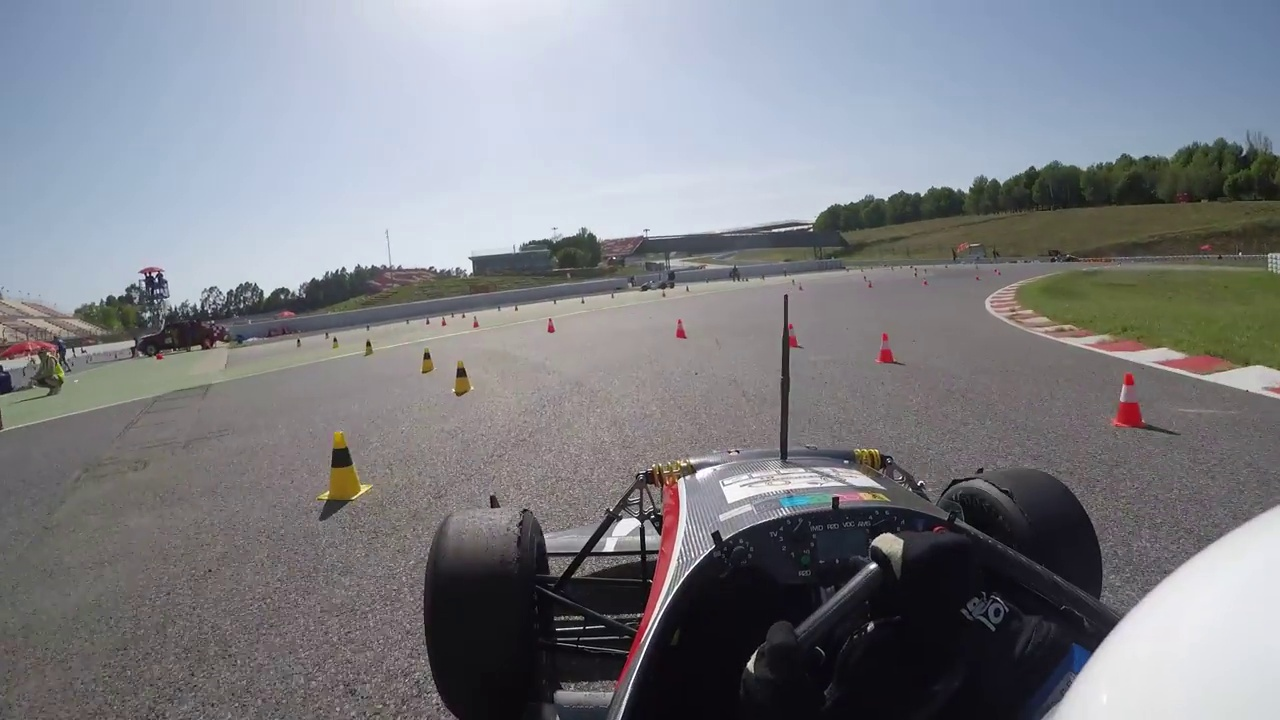Cone: (323, 429, 367, 500), (1116, 371, 1148, 425), (449, 357, 476, 394), (879, 330, 895, 363)
